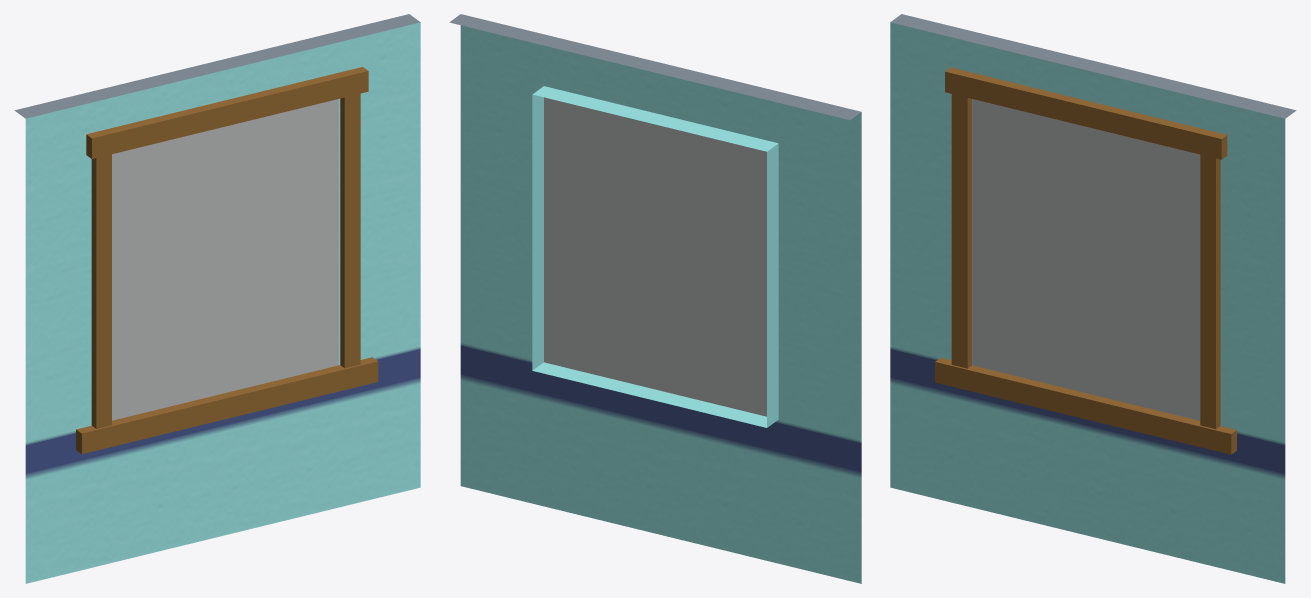
File: RoomOutsideWindowWall_WorkingRoom.fbx
3 views of the same model, side by side, from view 1: azimuth 30°, elevation 25°; view 2: azimuth 150°, elevation 25°; view 3: azimuth 330°, elevation 25° (orthographic).
Visible parts, largest first — view 1: Wall_Window.069; view 2: Wall_Window.069; view 3: Wall_Window.069.
Part boxes in pixels (x1=…): Wall_Window.069: x1=14, y1=14, x2=420, y2=583; Wall_Window.069: x1=449, y1=14, x2=861, y2=583; Wall_Window.069: x1=890, y1=14, x2=1296, y2=583.
Bounding box in the file's own units: 2 × 2.25 × 0.1502.
